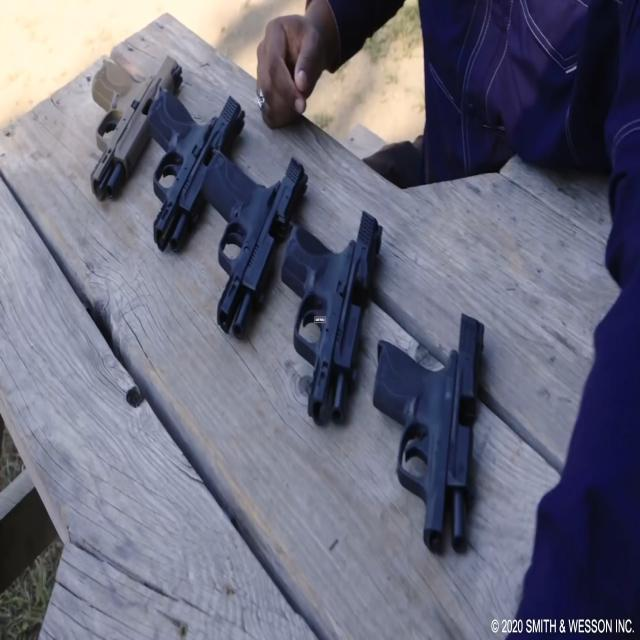handgun: (348, 288, 529, 536), (255, 197, 399, 384), (185, 135, 327, 320), (137, 77, 262, 240), (88, 30, 188, 220)
